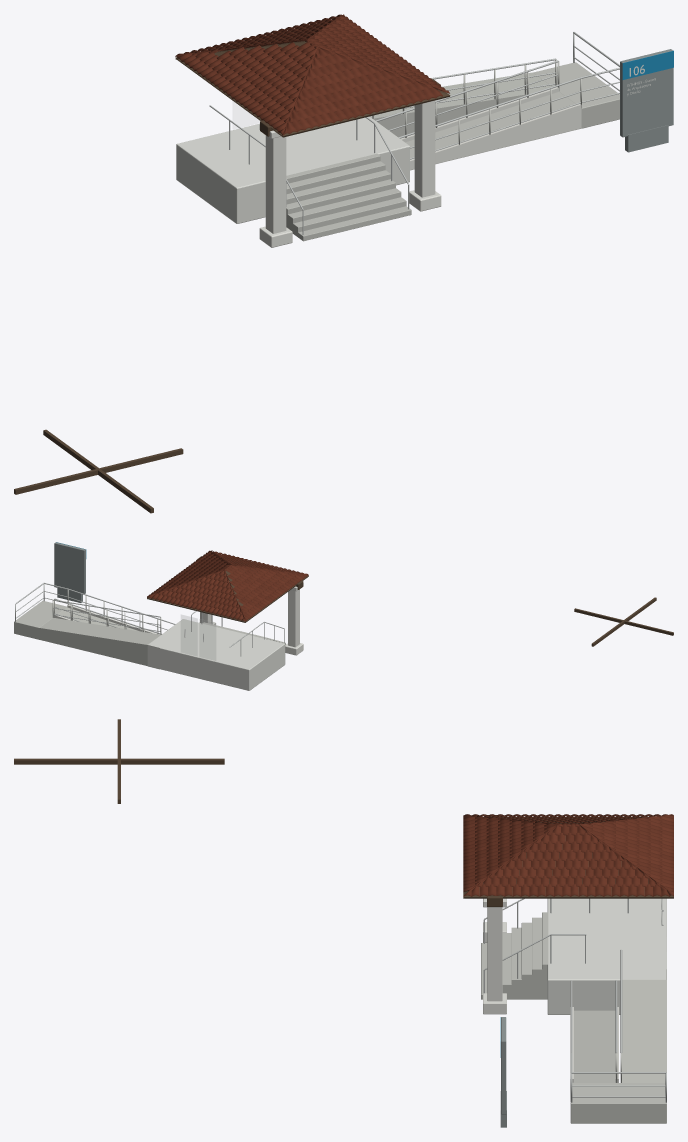
Rendered from entrada.glb.
3 views of the same model, one above another, from view 1: azimuth 30°, elevation 25°; view 2: azimuth 150°, elevation 25°; view 3: azimuth 270°, elevation 25° (orthographic). The views are drawn at different scales.
Parts seen in each view (by area): view 1: Pale cast concrete — entrance, Warm lime-painted plaster, Fresh cream trim, 106 sign grey, Galvanized guardrail, Dark stained roof timber, Clay terracotta 04, Clay terracotta 03, Clay terracotta 06, Clay terracotta 05, Clay terracotta 02, Clay terracotta 01 (+4 smaller); view 2: Warm lime-painted plaster, Pale cast concrete — entrance, 106 sign grey, Galvanized guardrail, Fresh cream trim, Window glass, Dark stained roof timber, Clay terracotta 04, Clay terracotta 02, Clay terracotta 08, Clay terracotta 03, Clay terracotta 07 (+4 smaller); view 3: Pale cast concrete — entrance, Warm lime-painted plaster, Clay terracotta 03, Dark stained roof timber, Clay terracotta 05, Fresh cream trim, Clay terracotta 07, Clay terracotta 02, Clay terracotta 04, Clay terracotta 06, Galvanized guardrail, Clay terracotta 01 (+3 smaller).
Boxes of the visible parts, x1,y1,x2,y2 form: Pale cast concrete — entrance: (286, 59, 619, 241); Warm lime-painted plaster: (176, 116, 409, 223); Fresh cream trim: (259, 65, 655, 247); 106 sign grey: (620, 49, 673, 152); Galvanized guardrail: (209, 32, 619, 234); Dark stained roof timber: (14, 19, 450, 513); Clay terracotta 04: (192, 20, 407, 125); Clay terracotta 03: (216, 16, 436, 123); Clay terracotta 06: (177, 14, 442, 133); Clay terracotta 05: (228, 14, 432, 135); Clay terracotta 02: (190, 20, 441, 122); Clay terracotta 01: (182, 16, 391, 131); Warm lime-painted plaster: (147, 619, 285, 690); Pale cast concrete — entrance: (14, 589, 285, 669); 106 sign grey: (54, 542, 85, 602); Galvanized guardrail: (15, 582, 284, 656); Fresh cream trim: (54, 583, 303, 655); Window glass: (181, 614, 216, 660); Dark stained roof timber: (147, 556, 673, 646); Clay terracotta 04: (159, 557, 301, 614); Clay terracotta 02: (159, 553, 298, 619); Clay terracotta 08: (155, 550, 303, 620); Clay terracotta 03: (149, 554, 297, 609); Clay terracotta 07: (156, 552, 291, 620); Pale cast concrete — entrance: (481, 912, 666, 1123); Warm lime-painted plaster: (547, 898, 666, 1014); Clay terracotta 03: (463, 814, 673, 896); Dark stained roof timber: (14, 719, 673, 906); Clay terracotta 05: (463, 814, 673, 896); Fresh cream trim: (483, 898, 618, 1101); Clay terracotta 07: (463, 814, 673, 896); Clay terracotta 02: (463, 814, 673, 896); Clay terracotta 04: (463, 814, 673, 896); Clay terracotta 06: (463, 814, 673, 896); Galvanized guardrail: (483, 898, 666, 1102); Clay terracotta 01: (463, 814, 673, 896).
Bounding box in the file's own units: 27.53 × 4.77 × 18.8.
